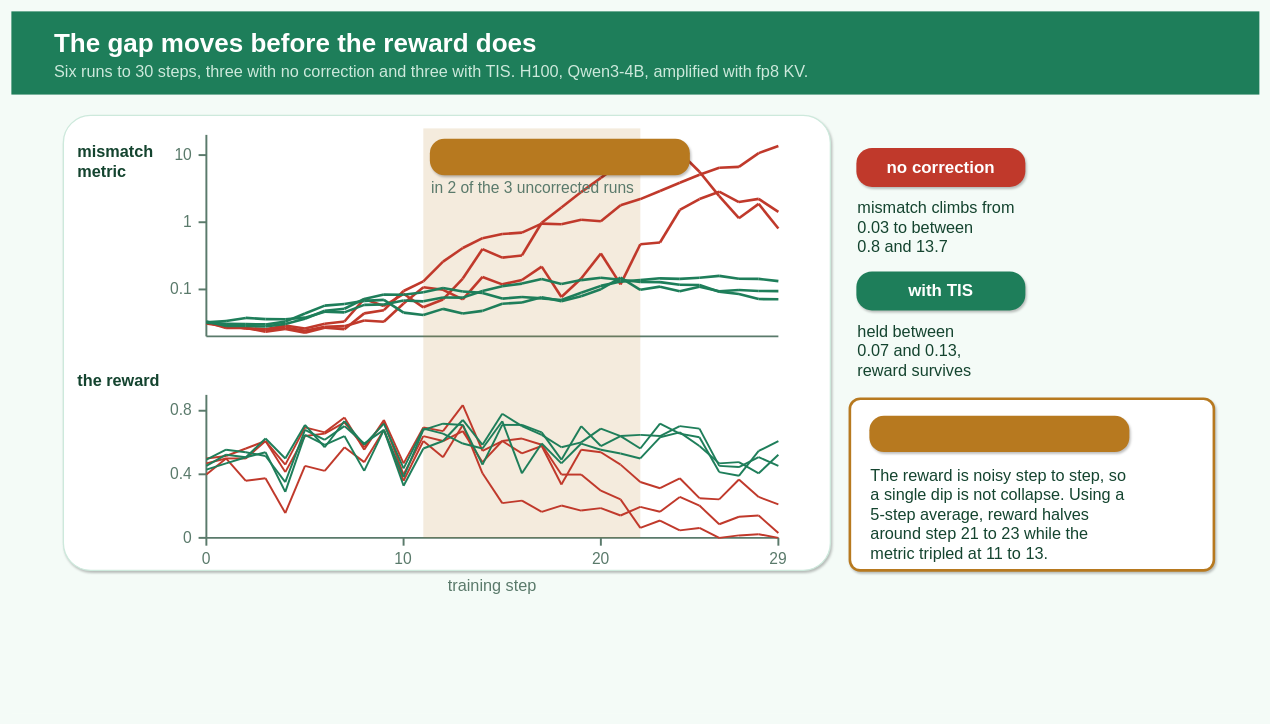
The diagram is 1270 pixels wide and 724 high, and some of its shapes have lost their labels. Here are the shapes that lost their labels. From the top down, the centre of each, then its label:
pixel 560 157: about 10 steps of warning
pixel 999 434: READ THIS CAREFULLY
